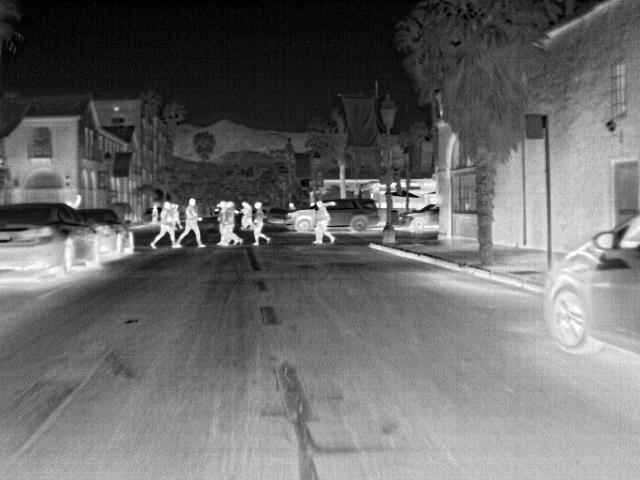car: (540, 211, 639, 360), (1, 198, 110, 283), (74, 207, 137, 260), (325, 198, 378, 232), (396, 204, 442, 234), (284, 206, 318, 236)
person: (147, 200, 180, 250), (175, 197, 208, 246), (308, 200, 338, 246), (220, 198, 247, 248), (250, 198, 274, 246), (236, 198, 252, 232), (214, 199, 228, 228)
